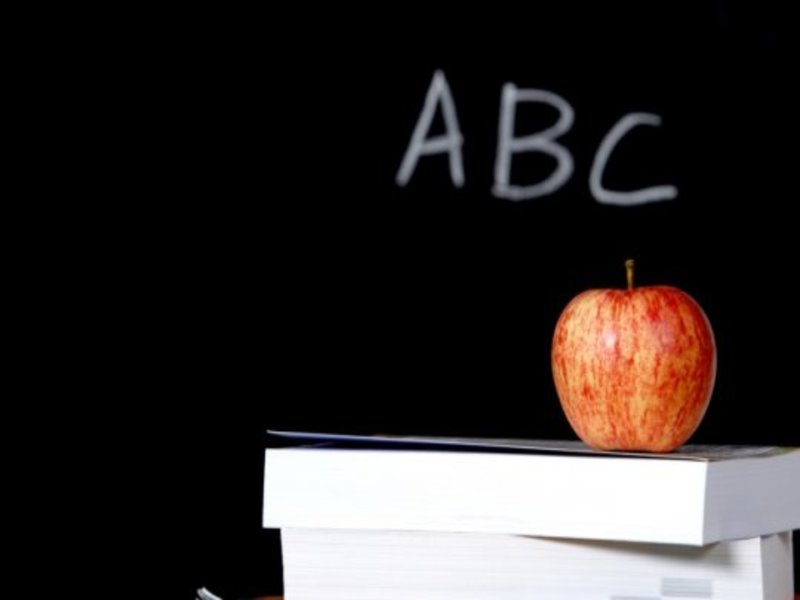apple: (546, 278, 720, 449)
